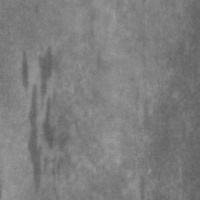inclusion: (19, 43, 65, 197)
